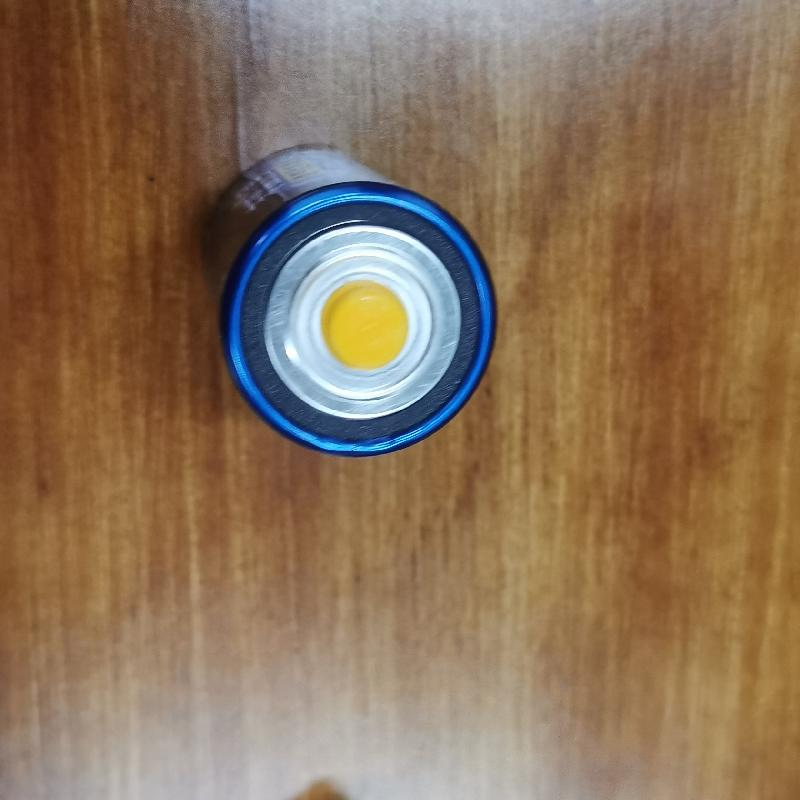battery: (204, 138, 497, 461)
